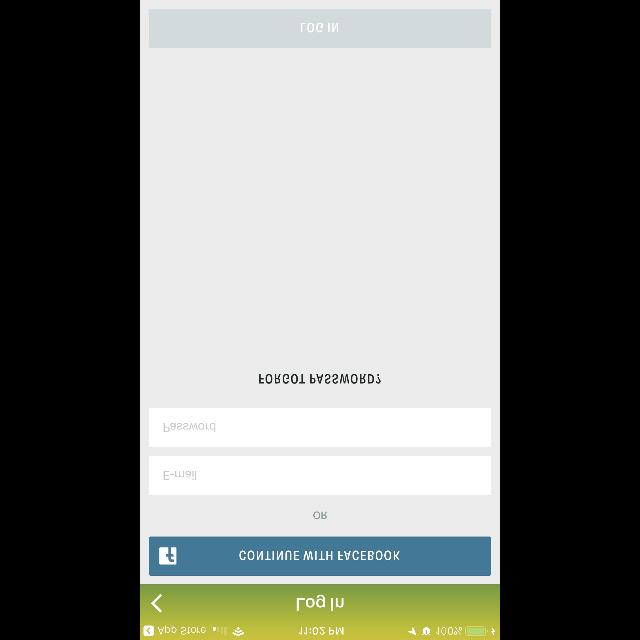icon: (152, 594, 162, 612)
input: (149, 408, 491, 447), (149, 456, 491, 494)
text: (260, 374, 380, 384), (296, 594, 344, 610), (164, 423, 216, 431), (164, 471, 196, 479), (314, 511, 328, 519)
textbutton: (149, 8, 491, 48), (149, 536, 491, 576)
uppertaskbar: (140, 625, 500, 639)
